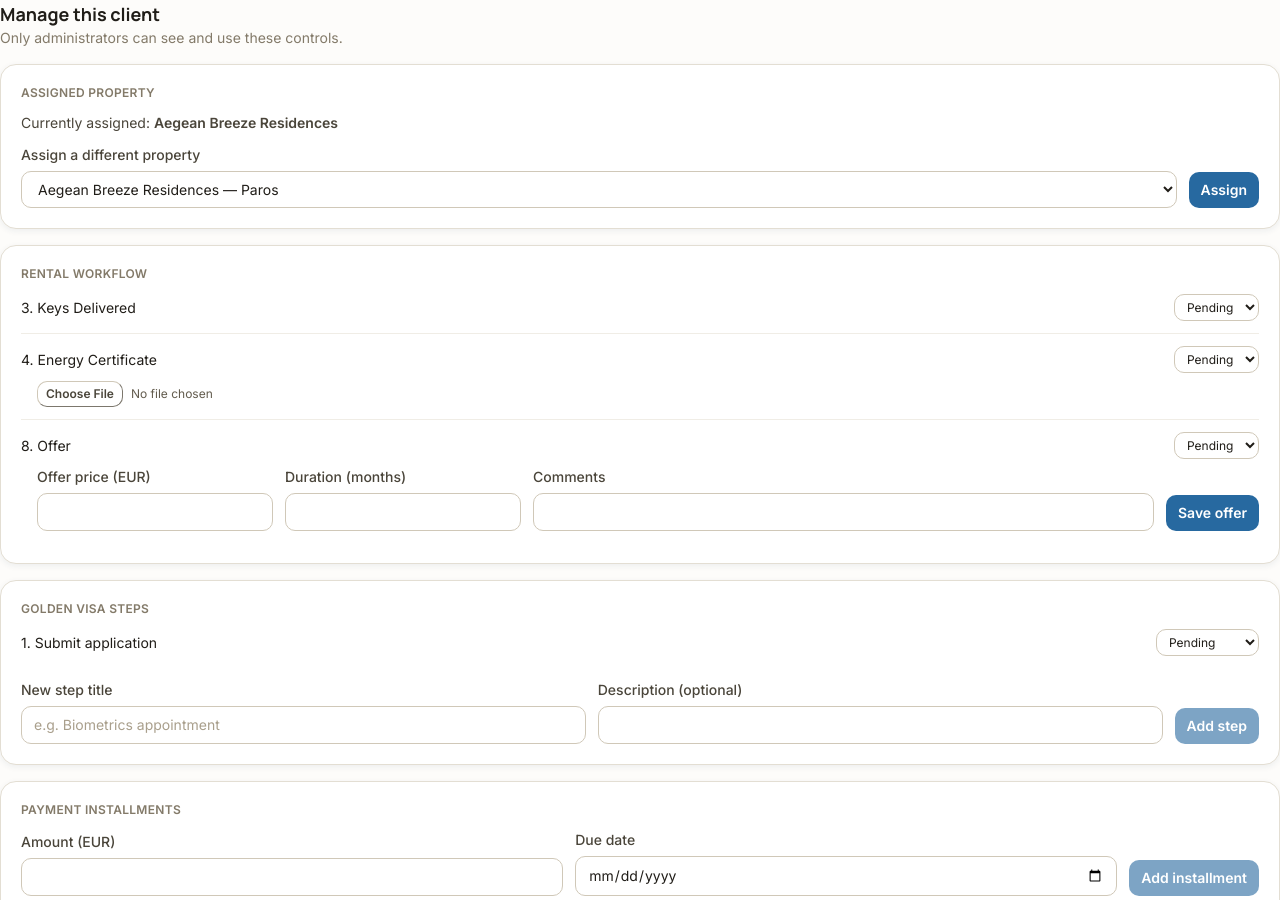
ClientAdminPanel — payment installments › surfaces a rejected action as an inline alert and does not refresh
Type "5" into the number field labelled "Amount (EUR)" at coordinates (292, 877), box [21,858,563,896]
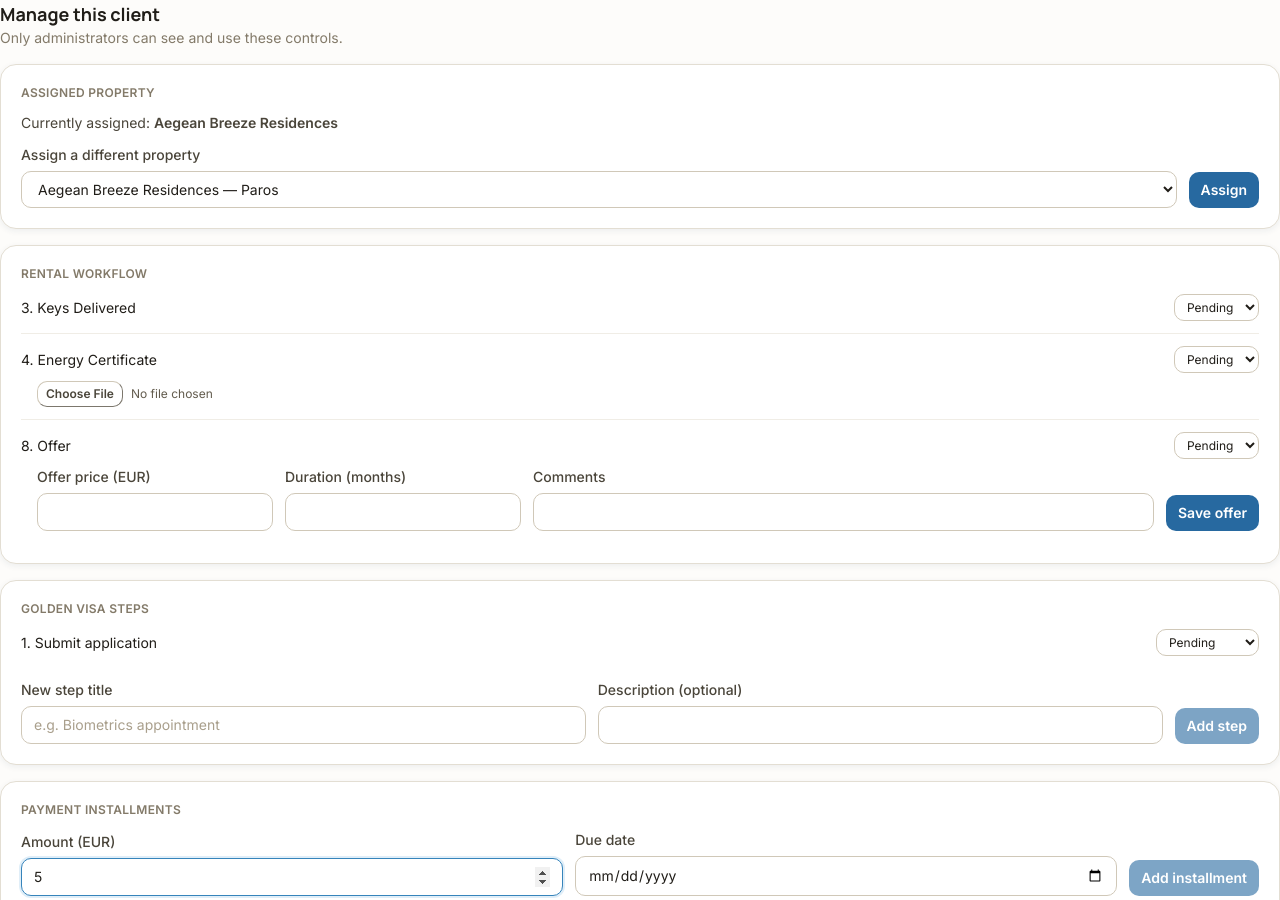
Type "2026-09-01" into the date field labelled "Due date" at coordinates (846, 876), box [575,856,1117,896]
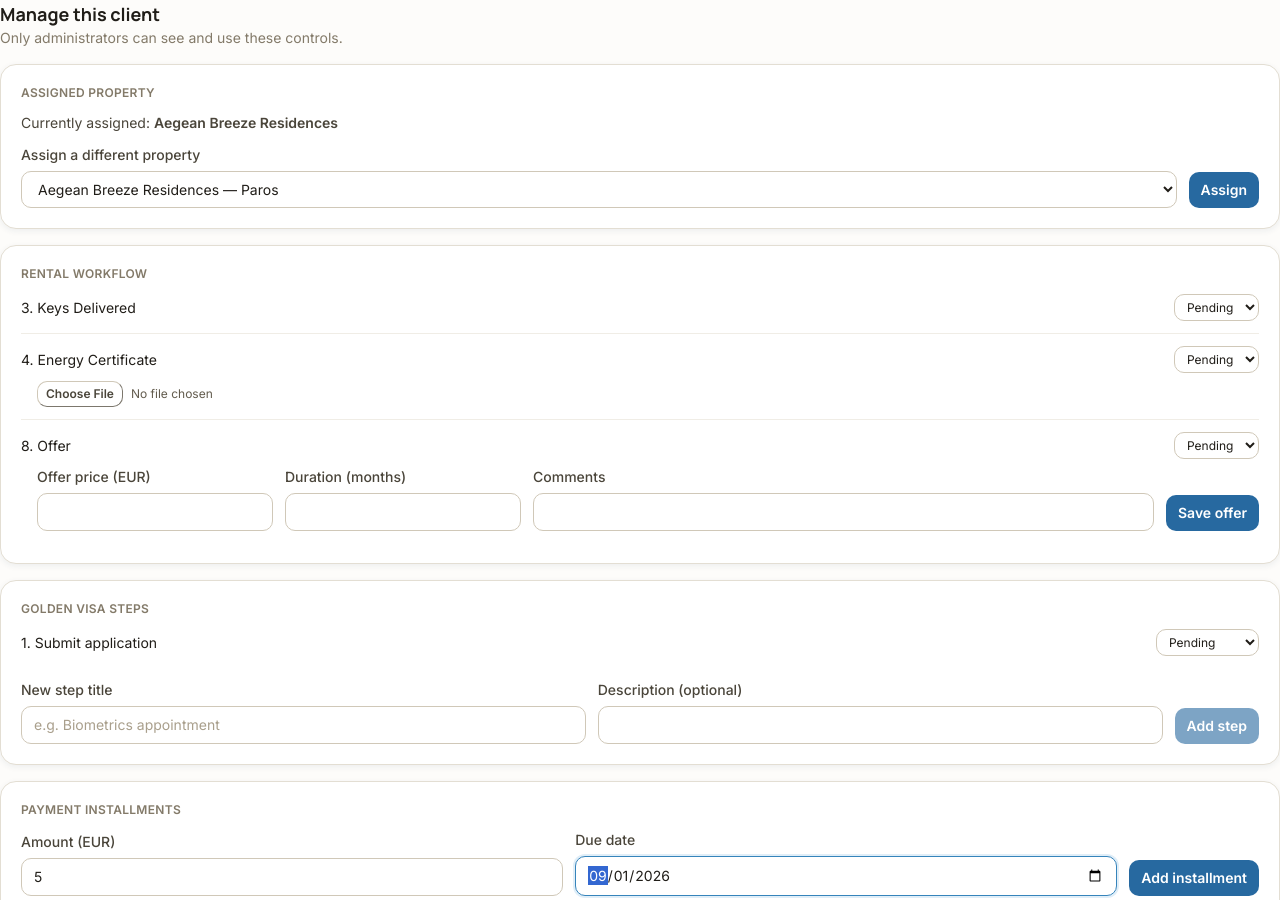
Click the button "Add installment" at coordinates (1194, 878), box [1129,860,1259,896]
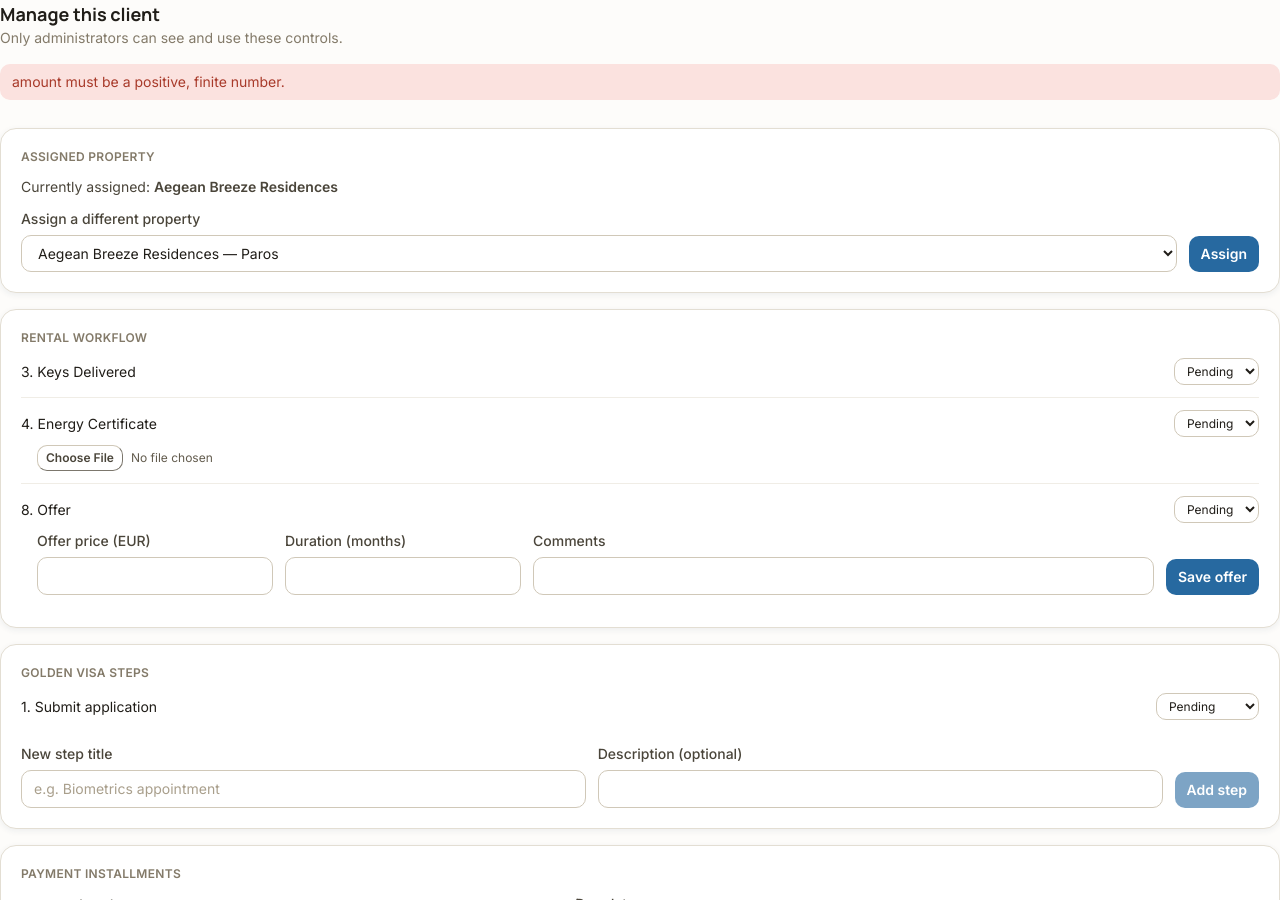
Check: the message reads "amount must be a positive, finite number.", box [12,73,285,90]
